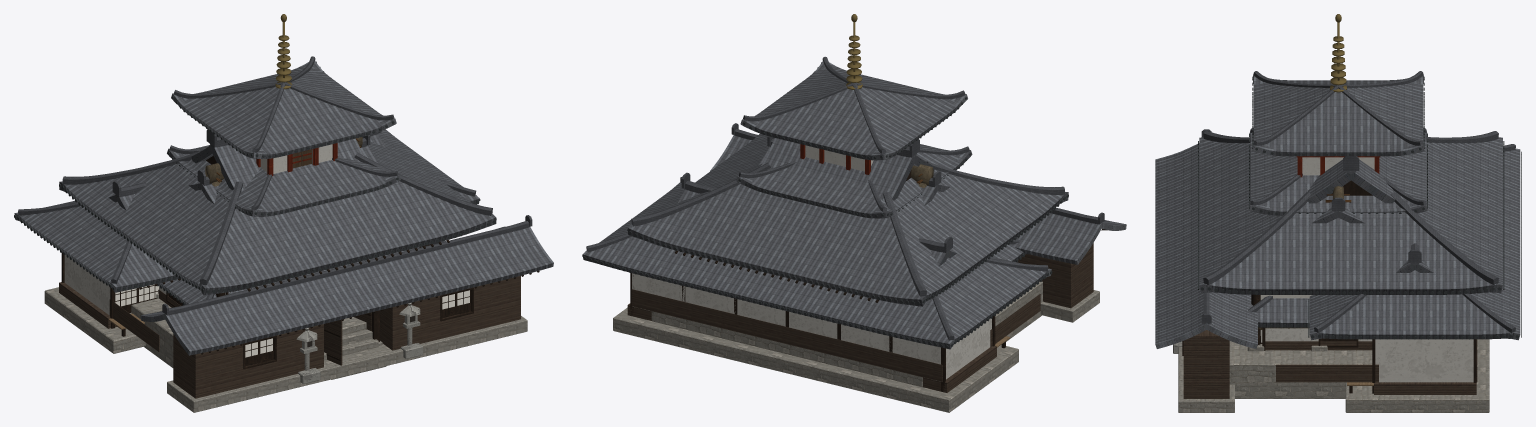
Rendered from eastasia_japan.glb.
3 views of the same model, side by side, from view 1: azimuth 30°, elevation 25°; view 2: azimuth 150°, elevation 25°; view 3: azimuth 270°, elevation 25° (orthographic). The views are drawn at different scales.
Parts seen in each view (by area): view 1: courtyard_estate_mesh, temple_ea_mesh, pagoda_small_mesh, house_tile_ea_mesh, house_town_ea_mesh; view 2: courtyard_estate_mesh, temple_ea_mesh, pagoda_small_mesh, house_town_ea_mesh; view 3: temple_ea_mesh, courtyard_estate_mesh, pagoda_small_mesh, house_tile_ea_mesh, house_town_ea_mesh.
Boxes of the visible parts, x1=… form: courtyard_estate_mesh: x1=14, y1=129, x2=553, y2=412; temple_ea_mesh: x1=59, y1=129, x2=496, y2=383; pagoda_small_mesh: x1=167, y1=14, x2=400, y2=216; house_tile_ea_mesh: x1=157, y1=241, x2=445, y2=307; house_town_ea_mesh: x1=189, y1=135, x2=403, y2=288; courtyard_estate_mesh: x1=582, y1=123, x2=1126, y2=412; temple_ea_mesh: x1=627, y1=133, x2=1068, y2=387; pagoda_small_mesh: x1=736, y1=14, x2=972, y2=218; house_town_ea_mesh: x1=758, y1=136, x2=949, y2=205; temple_ea_mesh: x1=1173, y1=131, x2=1504, y2=398; courtyard_estate_mesh: x1=1155, y1=129, x2=1521, y2=412; pagoda_small_mesh: x1=1249, y1=14, x2=1427, y2=215; house_tile_ea_mesh: x1=1248, y1=295, x2=1372, y2=350; house_town_ea_mesh: x1=1312, y1=197, x2=1364, y2=223.
Size of the model in its own units: 17.1 by 13.58 by 14.25.
Materials: 19 (13 with a texture image).
